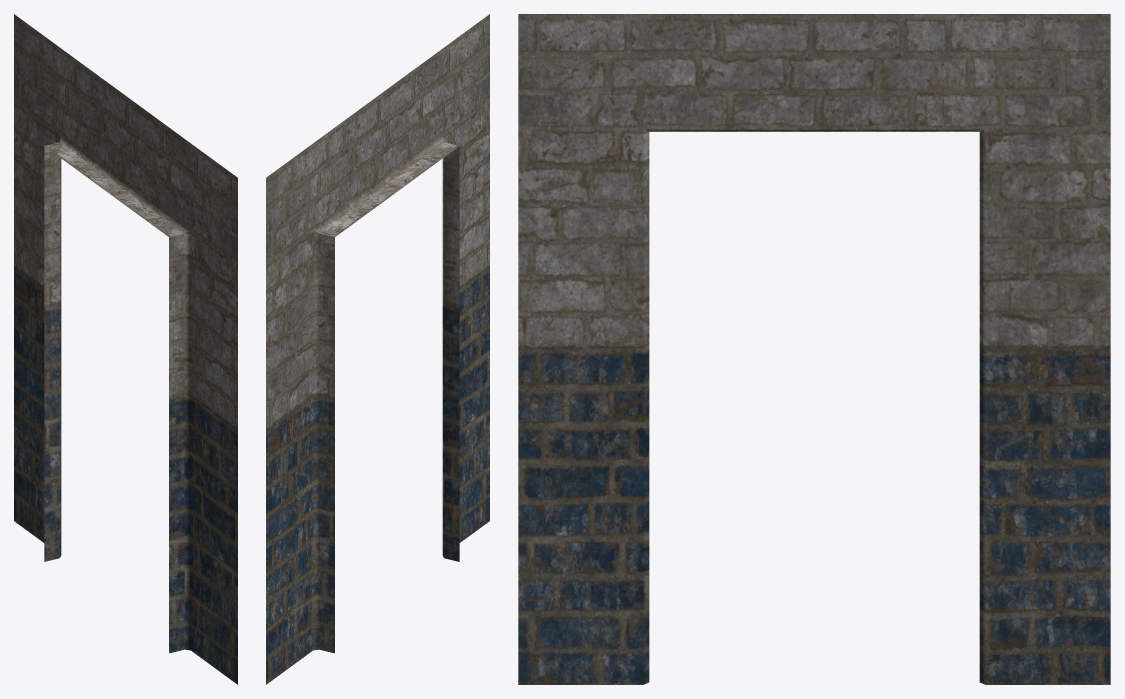
The model's file is Basement_Corridor_B_Wall_2m_Door.glb.
The picture shows the model from 3 angles, left to right: view 1: azimuth 30°, elevation 25°; view 2: azimuth 150°, elevation 25°; view 3: azimuth 270°, elevation 25°; orthographic projection. The views are drawn at different scales.
Visible parts, largest first — view 1: Basement_Corridor_B_Wall_2m_Door; view 2: Basement_Corridor_B_Wall_2m_Door; view 3: Basement_Corridor_B_Wall_2m_Door.
Boxes of the visible parts, x1,y1,x2,y2 form: Basement_Corridor_B_Wall_2m_Door: [14, 14, 237, 684]; Basement_Corridor_B_Wall_2m_Door: [266, 14, 489, 684]; Basement_Corridor_B_Wall_2m_Door: [518, 14, 1110, 684].
Size of the model in its own units: 0.1 by 2.5 by 2.
Materials: 1 (1 with a texture image).
